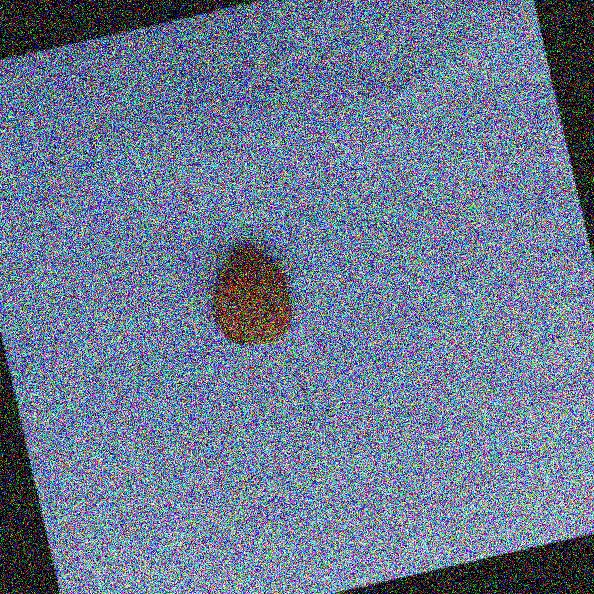grade1: (193, 230, 310, 361)
